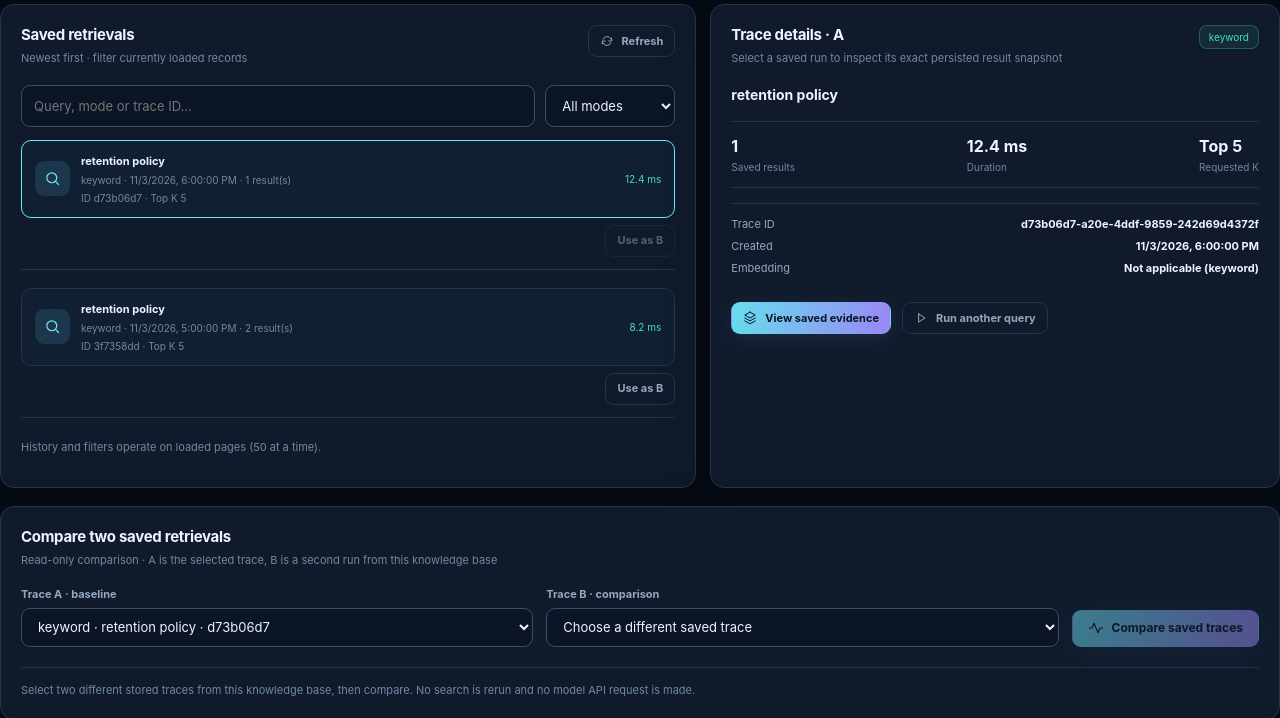
Scenario: live persisted trace history › filters loaded traces by mode and warns when the backend compares different queries
The width and height of the screenshot is (1280, 718).
(page scrolled)
Select "keyword · retention policy · 3f7358dd" in the dropdown labelled "Trace B · comparison" at (802, 627), box x1=546 y1=608 x2=1059 y2=647
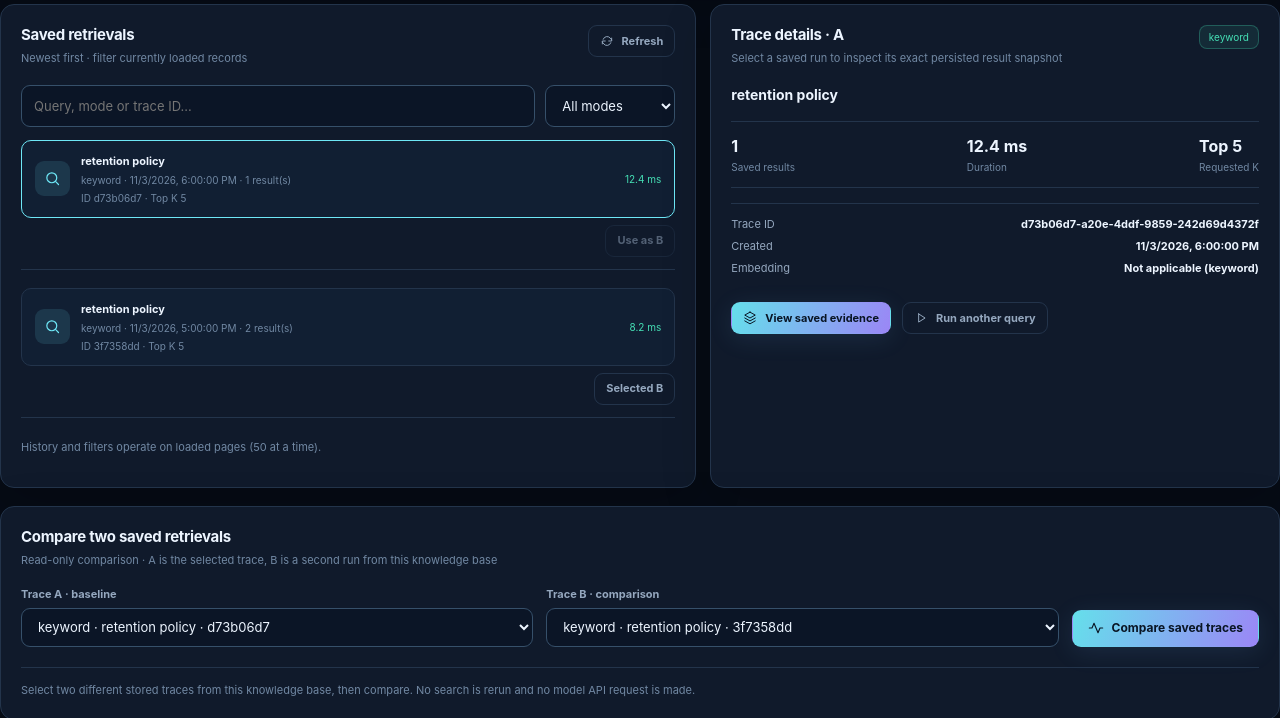
Click the button "Compare saved traces" at (1165, 628), box x1=1072 y1=610 x2=1259 y2=647
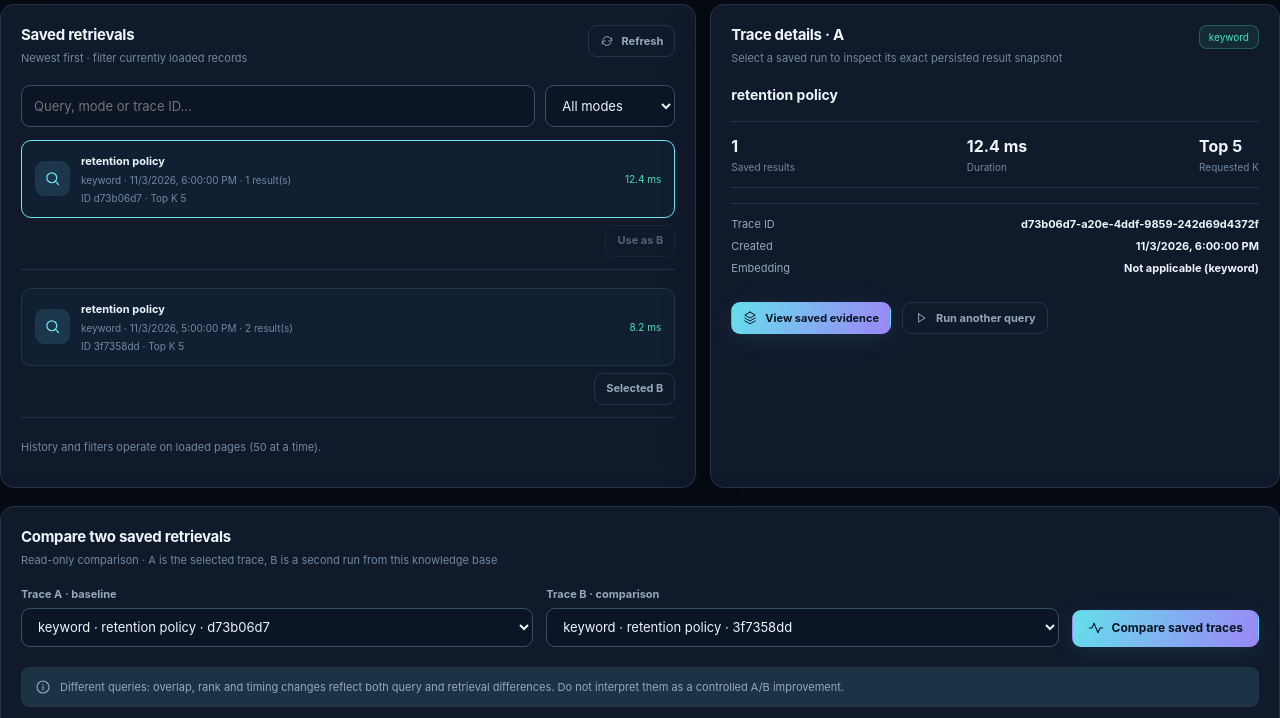
Expected: the text "Different queries: overlap" is shown, x1=60 y1=680 x2=844 y2=694
Select "Vector" in the dropdown named "Filter retrieval mode" at (610, 106), box x1=545 y1=84 x2=675 y2=126
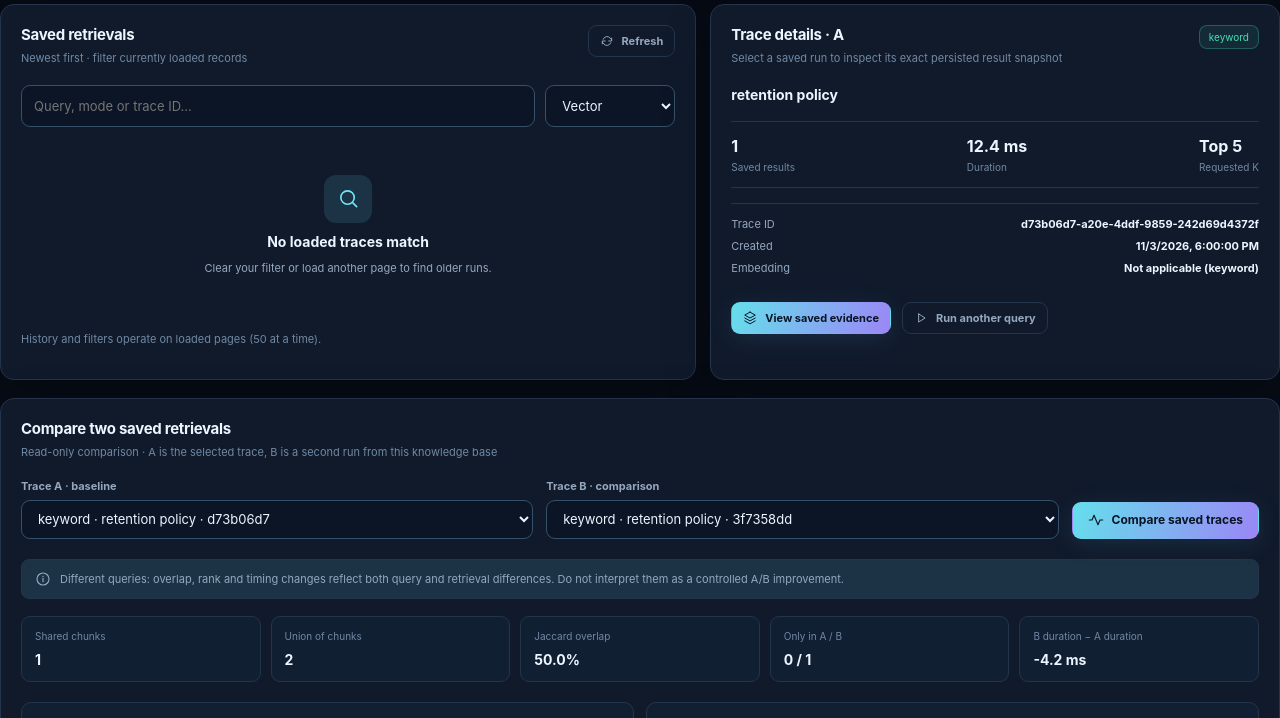
Expected: the text "No loaded traces match" is shown, x1=267 y1=233 x2=429 y2=250
